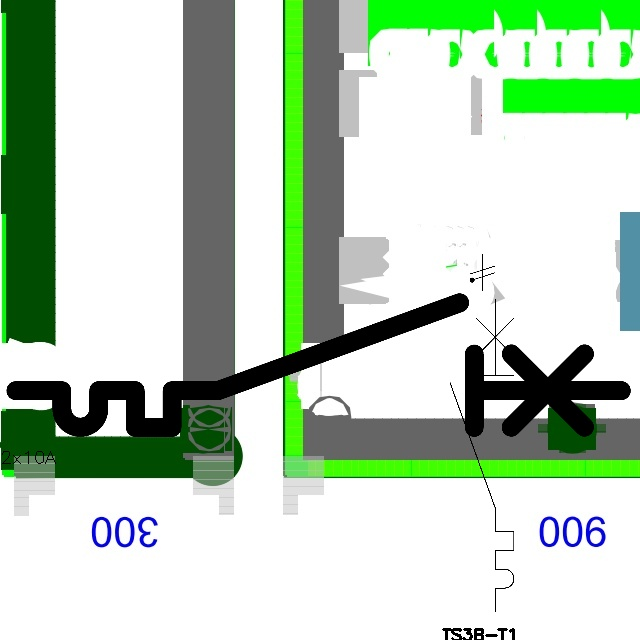interruptor_termomagnetico: (0, 287, 637, 443), (442, 291, 522, 620)
